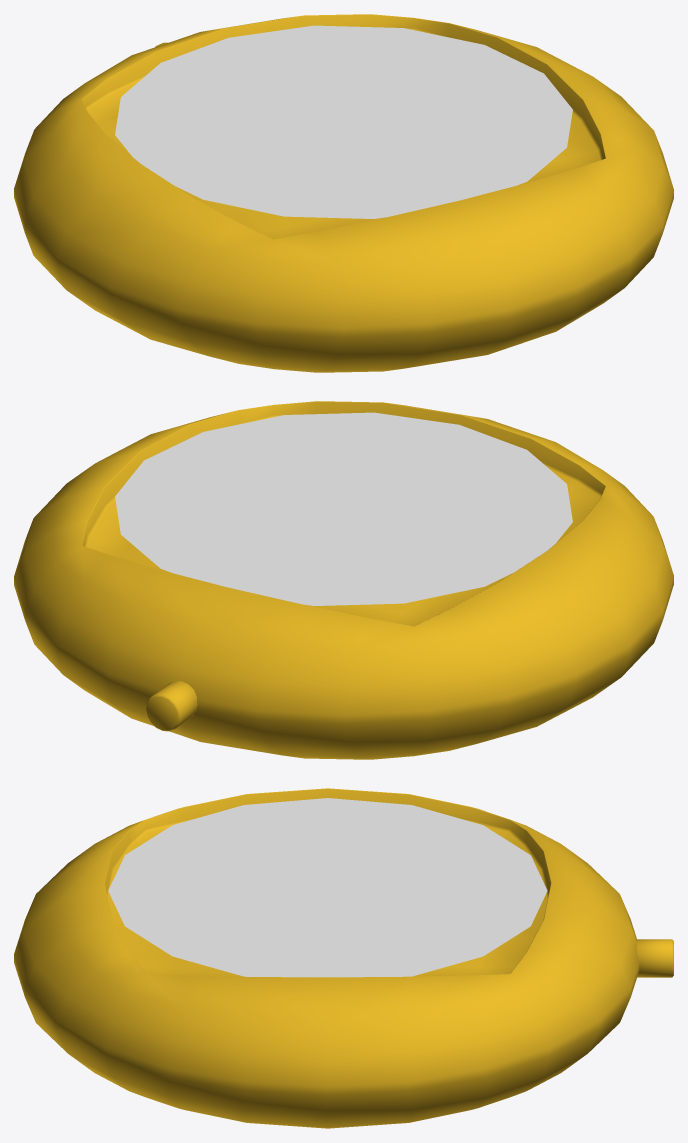
The model's file is clockwatch.fbx.
3 views of the same model, one above another, from view 1: azimuth 30°, elevation 25°; view 2: azimuth 150°, elevation 25°; view 3: azimuth 270°, elevation 25° (orthographic). The views are drawn at different scales.
Parts seen in each view (by area): view 1: Cube; view 2: Cube; view 3: Cube.
Part boxes in pixels (<box>): Cube: <box>14,14,673,372</box>; Cube: <box>14,401,673,759</box>; Cube: <box>14,788,673,1128</box>.
Bounding box in the file's own units: 530 × 170 × 557.
